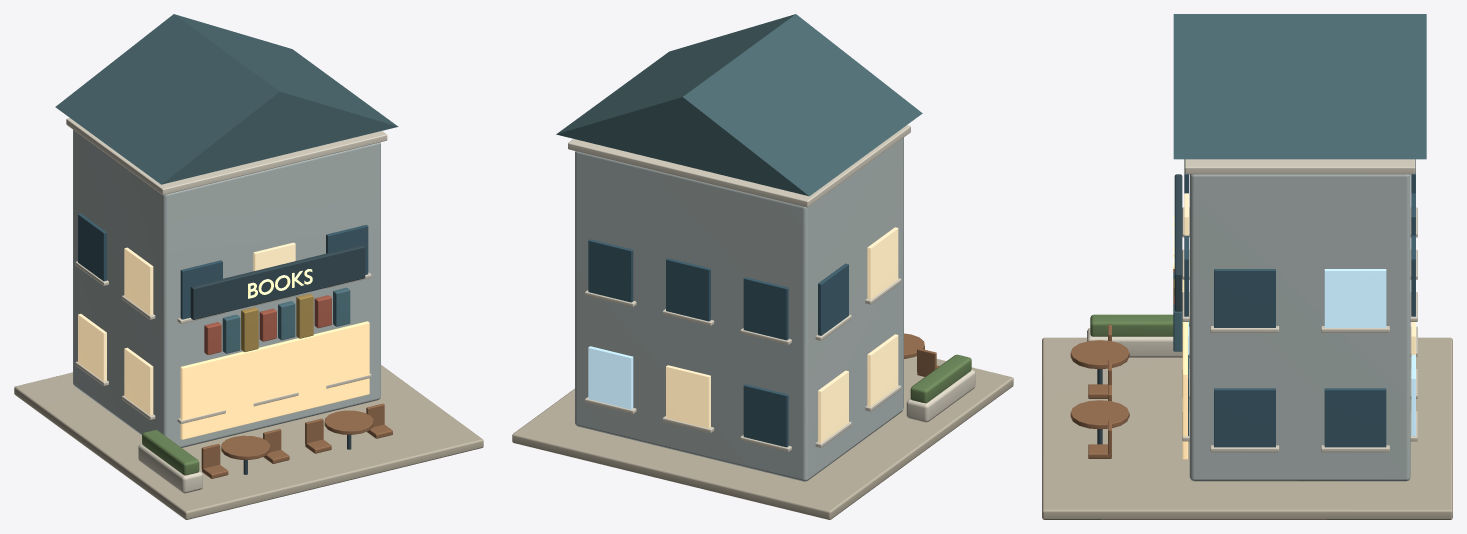
The model's file is bookshop.glb.
3 views of the same model, side by side, from view 1: azimuth 30°, elevation 25°; view 2: azimuth 150°, elevation 25°; view 3: azimuth 270°, elevation 25° (orthographic). The views are drawn at different scales.
Parts seen in each view (by area): view 1: bookshop_Building_Volume, bookshop_Gable_Roof, bookshop_Site_Paving, bookshop_Storefront, bookshop_Sign_Backplate, bookshop_Roof_Coping, bookshop_Window_Recess.008, bookshop_Window_Recess.018, bookshop_Window_Recess.006, bookshop_Window_Recess.016, bookshop_Hedge, bookshop_Raised_Planter (+14 smaller); view 2: bookshop_Building_Volume, bookshop_Gable_Roof, bookshop_Site_Paving, bookshop_Roof_Coping, bookshop_Window_Recess.004, bookshop_Window_Recess, bookshop_Window_Recess.010, bookshop_Window_Recess.014, bookshop_Window_Recess.002, bookshop_Window_Recess.012, bookshop_Window_Recess.008, bookshop_Window_Recess.018 (+4 smaller); view 3: bookshop_Building_Volume, bookshop_Site_Paving, bookshop_Gable_Roof, bookshop_Window_Recess.007, bookshop_Window_Recess.009, bookshop_Window_Recess.017, bookshop_Roof_Coping, bookshop_Window_Recess.019, bookshop_Hedge, bookshop_Cafe_Table, bookshop_Cafe_Table.001, bookshop_Raised_Planter (+2 smaller).
Part boxes in pixels (x1,y1,x2,y2): bookshop_Building_Volume: (73, 130, 380, 447); bookshop_Gable_Roof: (55, 14, 398, 184); bookshop_Site_Paving: (14, 365, 483, 519); bookshop_Storefront: (180, 321, 369, 439); bookshop_Sign_Backplate: (190, 245, 365, 319); bookshop_Roof_Coping: (66, 118, 387, 195); bookshop_Window_Recess.008: (124, 347, 153, 415); bookshop_Window_Recess.018: (124, 247, 153, 315); bookshop_Window_Recess.006: (78, 314, 106, 381); bookshop_Window_Recess.016: (78, 213, 106, 281); bookshop_Hedge: (142, 430, 199, 475); bookshop_Raised_Planter: (138, 444, 202, 493); bookshop_Building_Volume: (575, 137, 903, 481); bookshop_Gable_Roof: (556, 14, 922, 196); bookshop_Site_Paving: (512, 356, 1013, 519); bookshop_Roof_Coping: (568, 125, 910, 207); bookshop_Window_Recess.004: (588, 346, 633, 409); bookshop_Window_Recess: (743, 384, 788, 447); bookshop_Window_Recess.010: (743, 277, 788, 340); bookshop_Window_Recess.014: (588, 239, 633, 302); bookshop_Window_Recess.002: (666, 365, 710, 428); bookshop_Window_Recess.012: (666, 258, 710, 321); bookshop_Window_Recess.008: (867, 334, 898, 406); bookshop_Window_Recess.018: (867, 227, 898, 299); bookshop_Building_Volume: (1189, 174, 1410, 481); bookshop_Site_Paving: (1042, 337, 1452, 519); bookshop_Gable_Roof: (1173, 14, 1426, 159); bookshop_Window_Recess.007: (1324, 388, 1386, 447); bookshop_Window_Recess.009: (1214, 388, 1275, 447); bookshop_Window_Recess.017: (1324, 269, 1386, 327); bookshop_Roof_Coping: (1184, 159, 1415, 174); bookshop_Window_Recess.019: (1214, 269, 1275, 327); bookshop_Hedge: (1090, 314, 1189, 336); bookshop_Cafe_Table: (1070, 340, 1129, 369); bookshop_Cafe_Table.001: (1070, 400, 1129, 429); bookshop_Raised_Planter: (1087, 328, 1189, 357).
Size of the model in its own units: 7.8 by 8.8 by 7.8.
